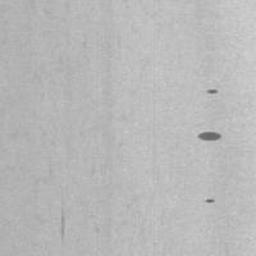Inclusion: (197, 131, 221, 142), (206, 88, 219, 95), (205, 198, 215, 204)
